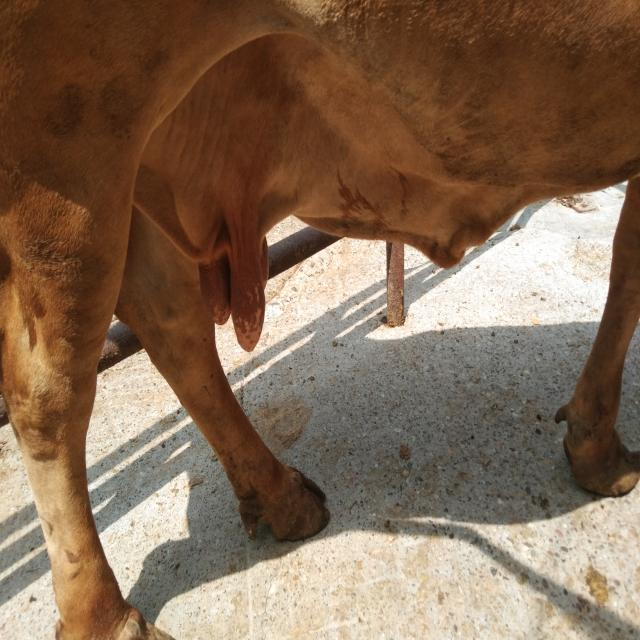Hoof: (554, 402, 639, 498), (238, 464, 330, 542), (54, 602, 175, 639)
